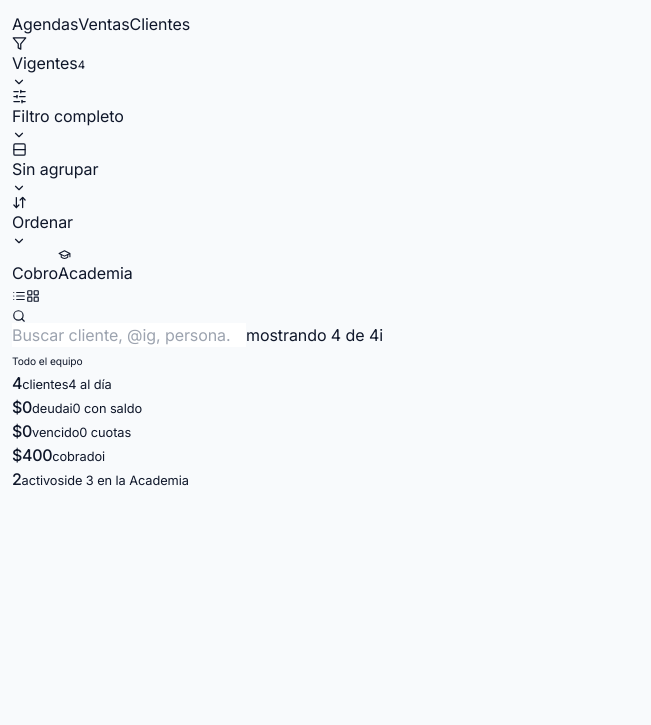
Test: Revisar · la Academia en Clientes › las columnas de la Academia muestran cada métrica y de cuándo es el dato
Click the button "Academia".
click(95, 266)  # box 58,248 -> 133,285
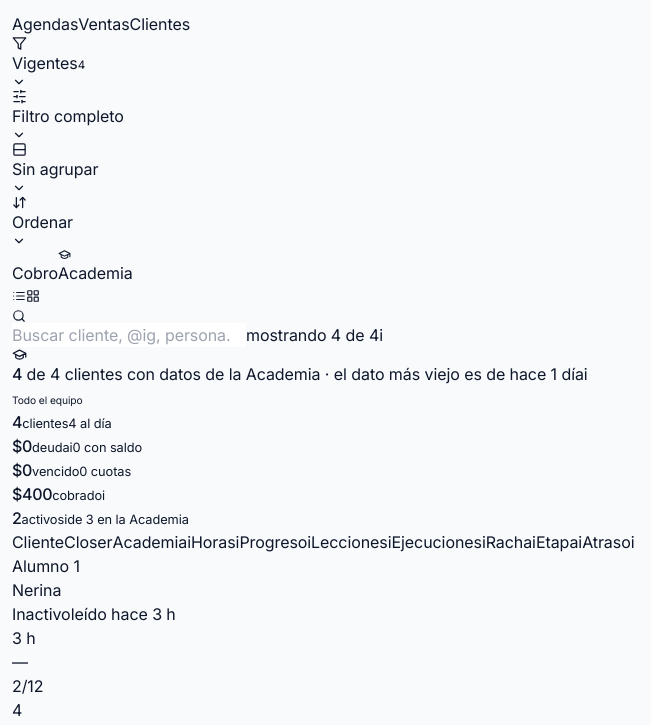
Expected: the text "de 4 clientes con datos de la Academia" is shown, 22,364 -> 320,384
Expected: the text "· el dato más viejo es de hace 1 día" is shown, 320,364 -> 584,384
